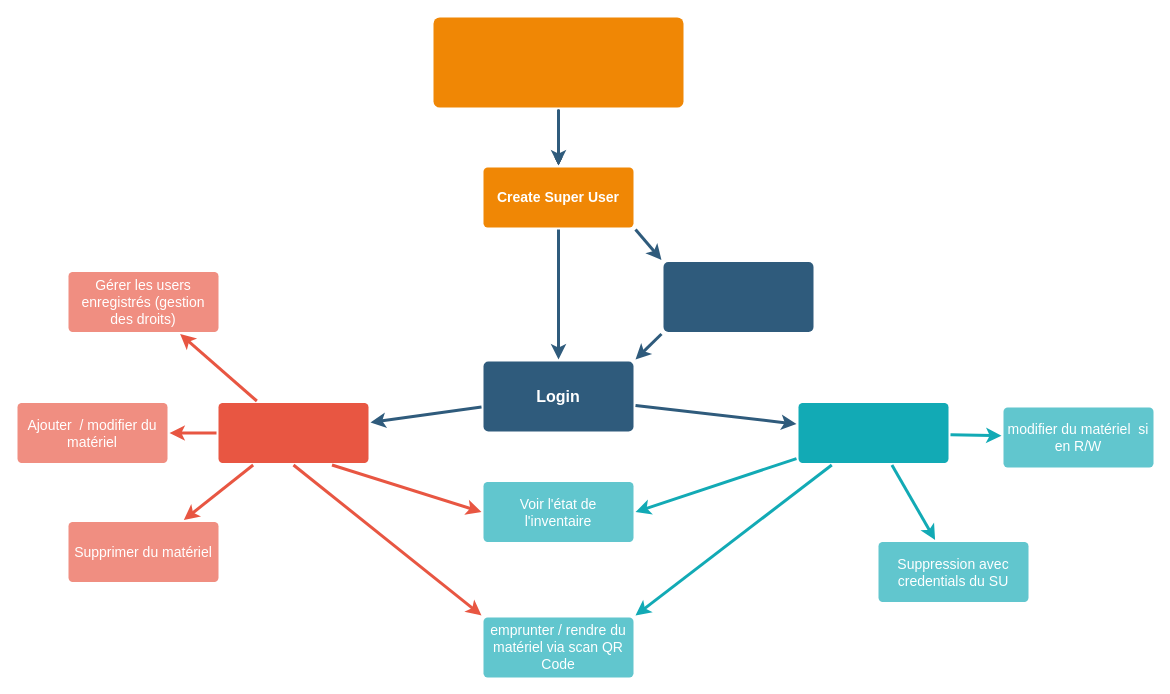
Image size: 1170x694. Some labels were removed from this diagram. The shapes that lost their labels are listed below. From the top down, each one's centre as x and y in pixels, then its label:
[558,62]: Inventory Manager
[738,297]: Inscription
[293,432]: Si login en tant que SU
[873,432]: Si login en tant que Basic User
